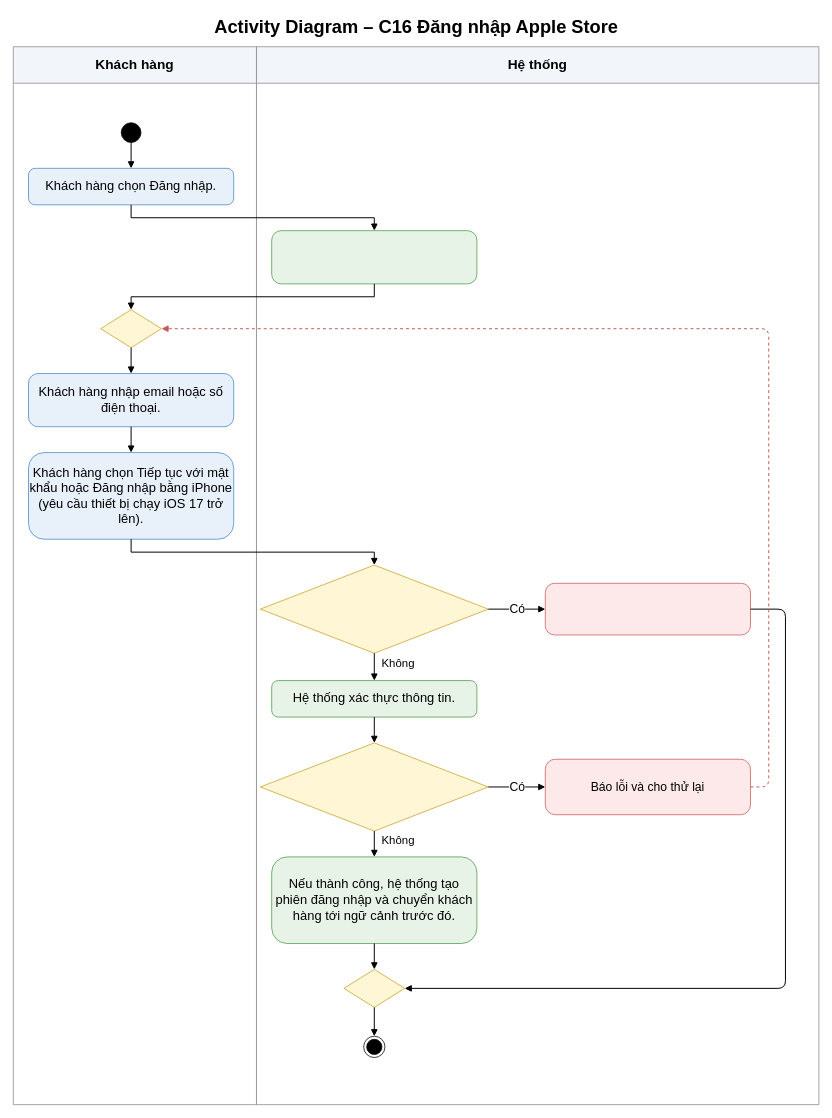
Image size: 832x1118. Some labels were removed from this diagram. The shapes that lost their labels are listed below. From the top down, each one's centre as x and y in pixels, then its label:
point 374,257: Hệ thống hiển thị màn hình Đăng nhập vào Apple Store.
point 374,608: Khách hàng quên mật khẩu?
point 647,609: Chuyển sang C19 Đặt lại mật khẩu
point 374,786: Sai thông tin xác thực?
